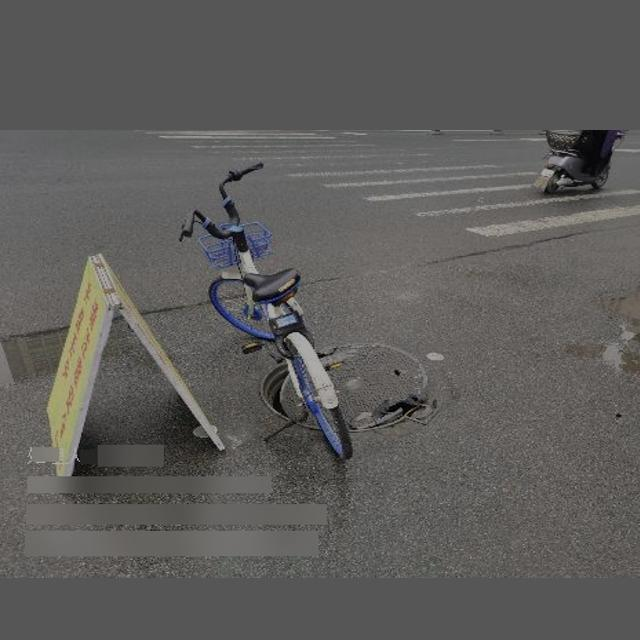uncovered: (259, 344, 438, 431)
